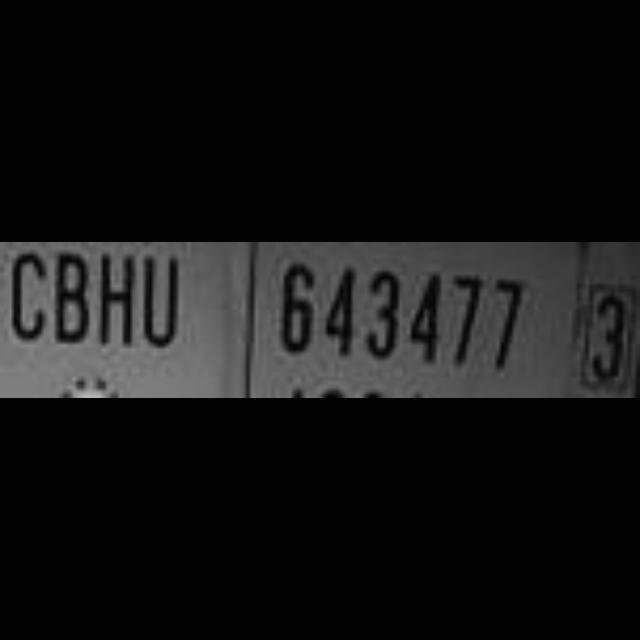3: (589, 290, 633, 392), (364, 262, 404, 366)
4: (322, 257, 362, 363), (406, 264, 444, 368)
6: (271, 256, 315, 362)
7: (448, 270, 487, 372), (492, 272, 530, 376)
b: (51, 245, 98, 345)
c: (0, 242, 50, 356)
h: (98, 250, 138, 352)
u: (142, 250, 185, 354)
